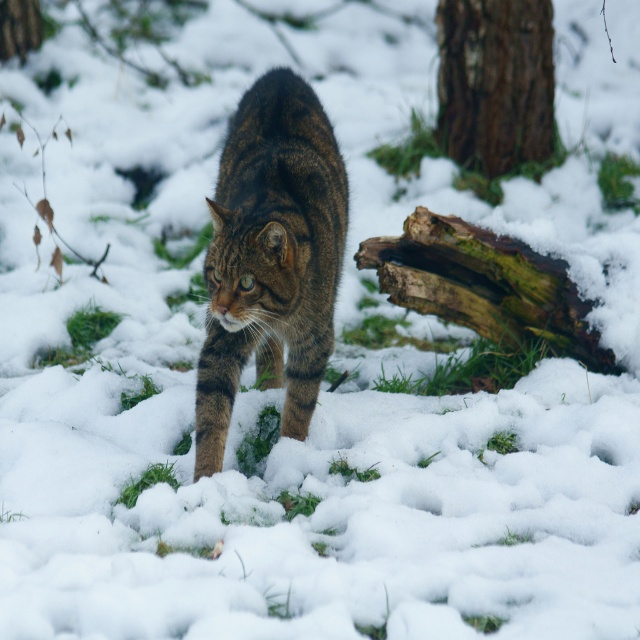Lynx: (176, 63, 356, 483)
